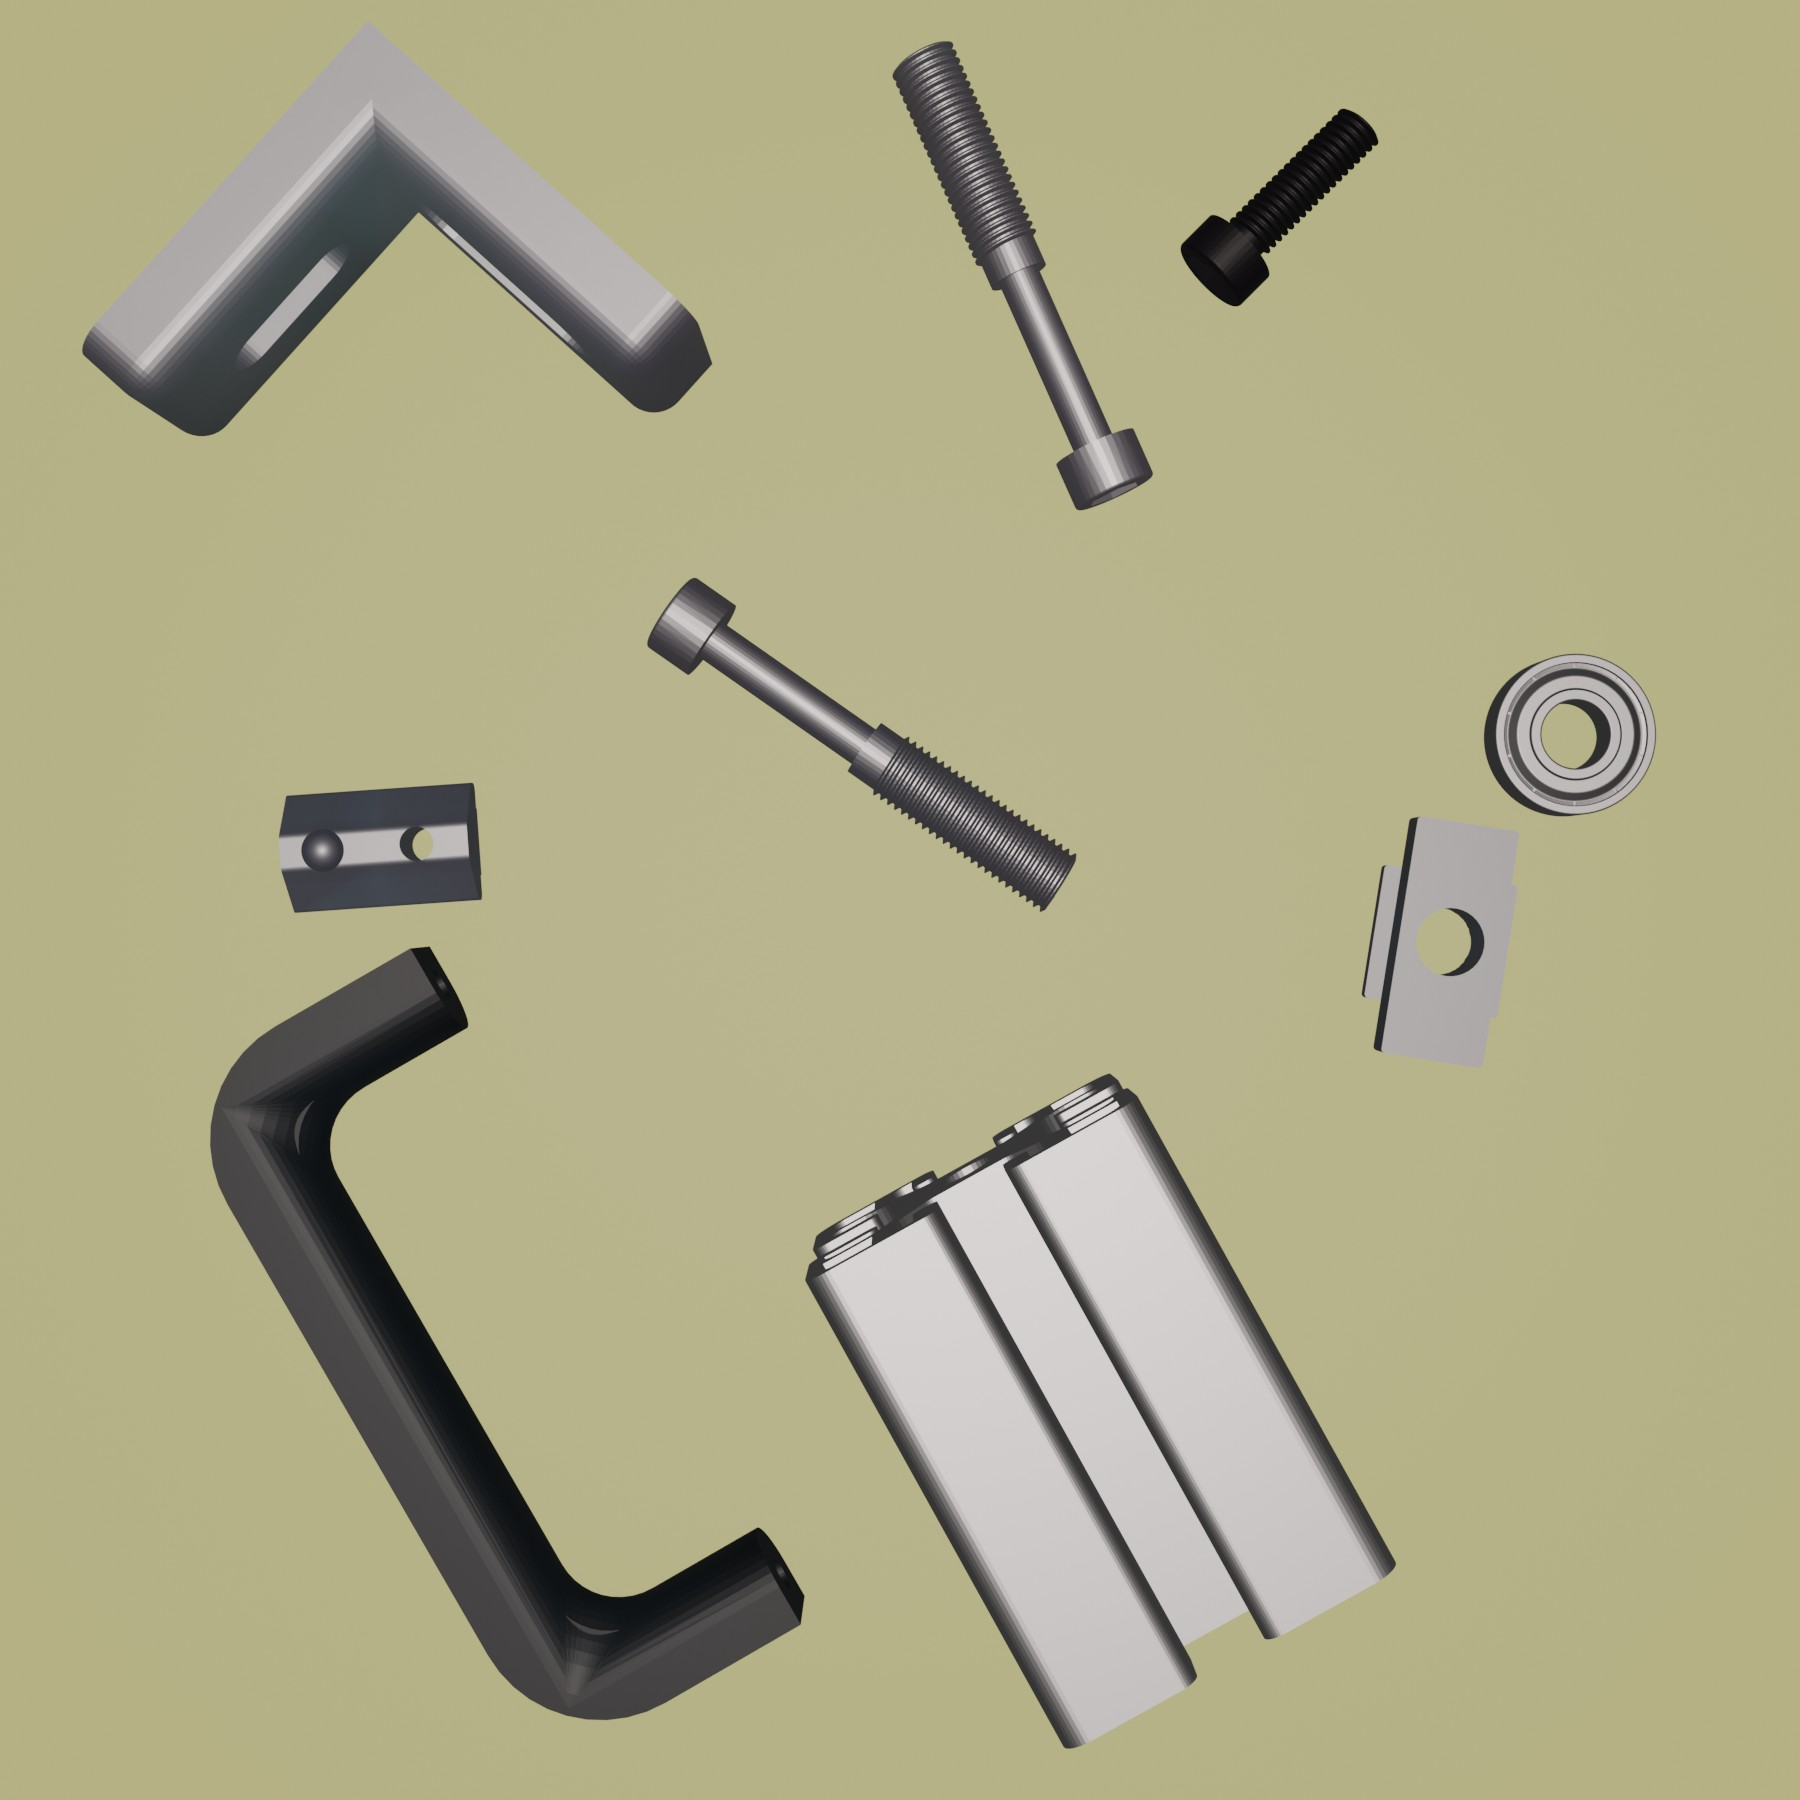Aluminium Extension: (801, 1070, 1398, 1752)
Ball Bearing: (1480, 649, 1658, 819)
Multiwinkel: (76, 13, 715, 438)
Pull Handle: (206, 943, 804, 1723)
Shoulder Socket Head Cap Screw: (645, 572, 1078, 913), (890, 40, 1155, 513)
Socket Head Cap Screw: (1179, 104, 1381, 308)
T Nut Square: (1357, 811, 1525, 1070)
T Spring Nut: (275, 778, 485, 915)
